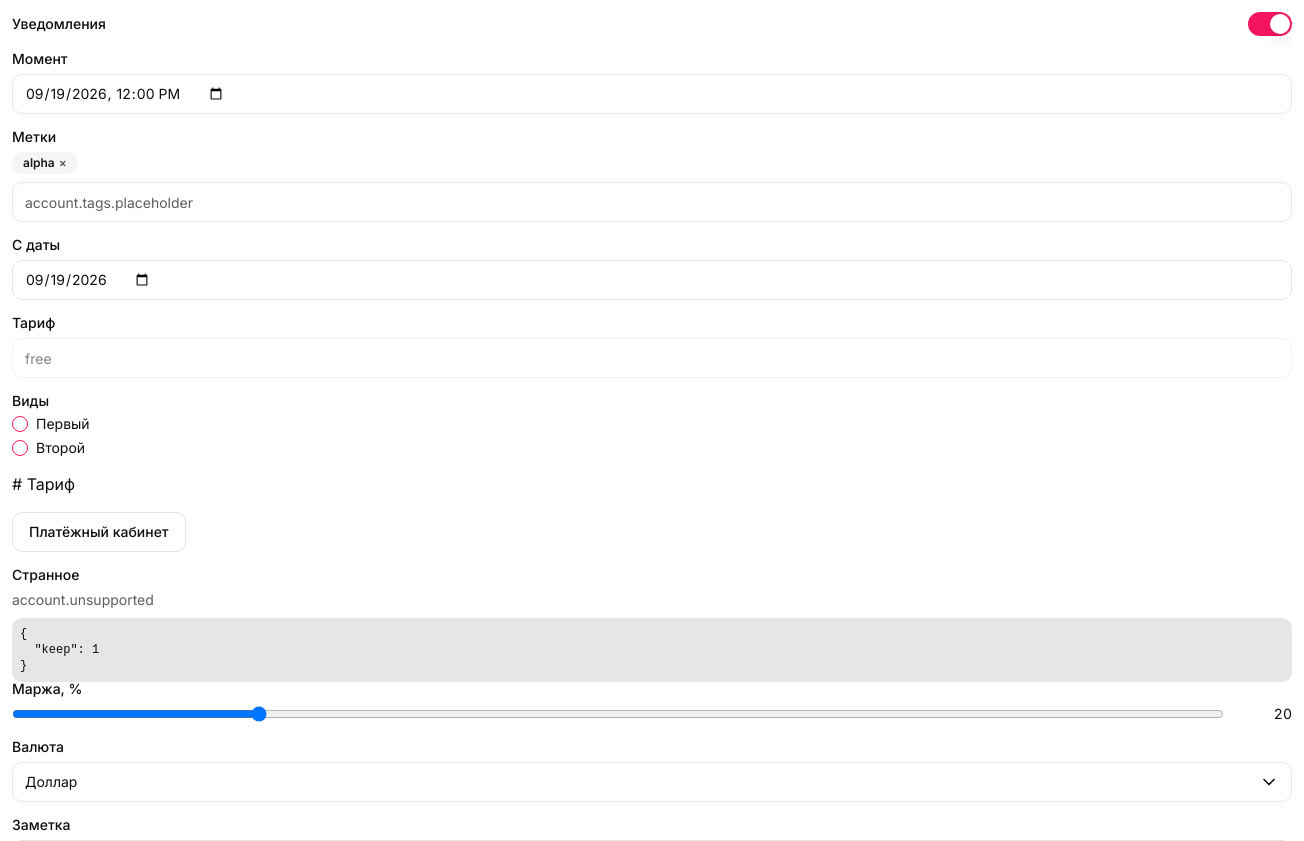
Test: SchemaForm › shows the slider value beside it
Expected: the text "20" is shown, 1274,705 -> 1292,722
Set the slider labelled "Маржа, %" to "35" at coordinates (439, 714), box 12,706 -> 1224,722
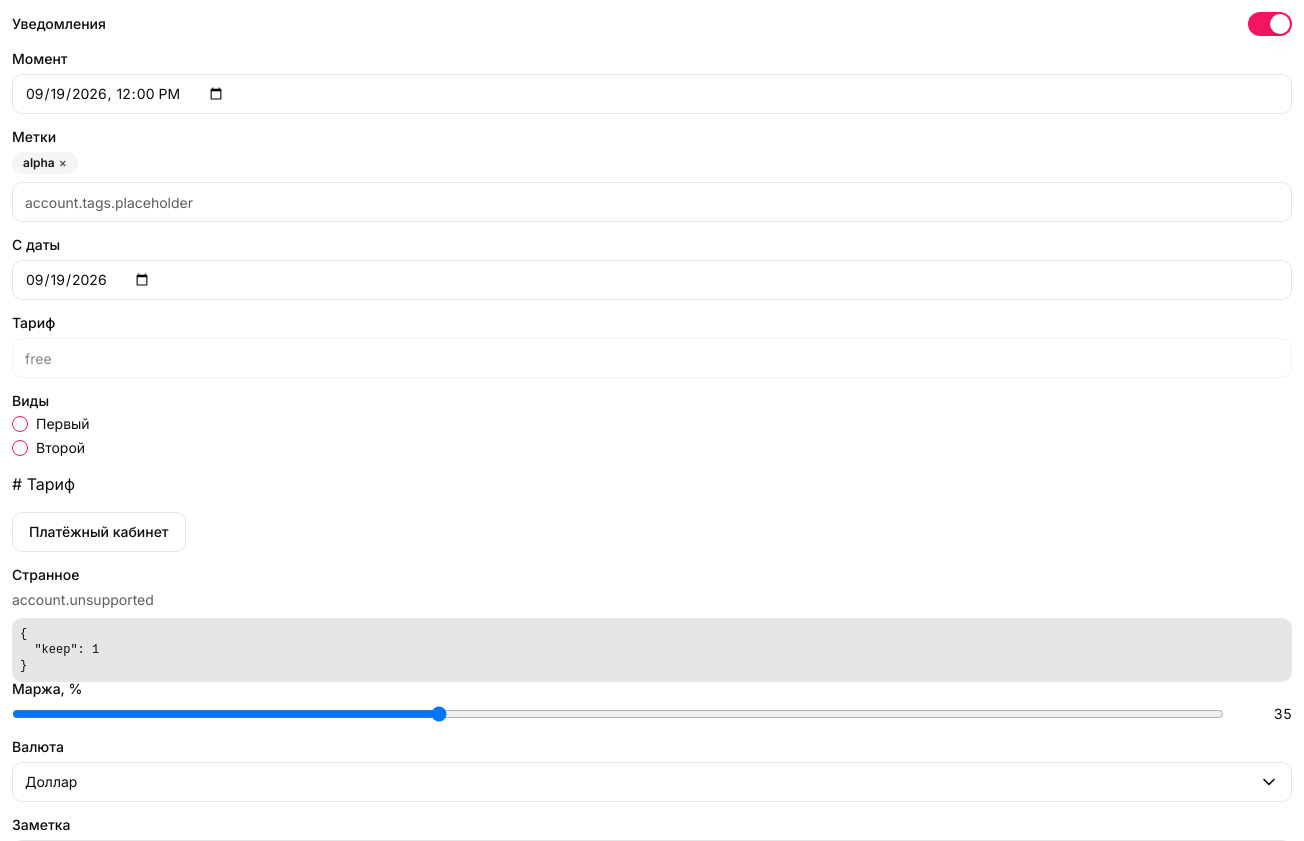
Now the text "35" is shown, box 1274,705 -> 1292,722
